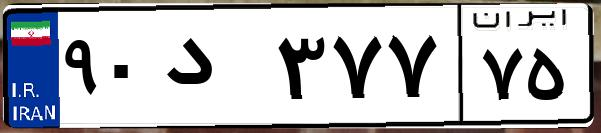0: (110, 28, 158, 98)
3: (270, 28, 330, 110)
5: (525, 38, 570, 115)
7: (385, 28, 445, 110), (330, 28, 385, 110), (475, 38, 525, 113)
9: (57, 26, 110, 100)
د: (158, 20, 270, 120)
